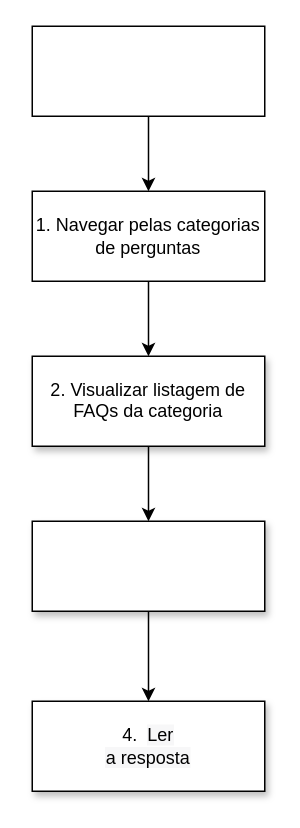
Some shapes in this 300 by 828 pixel diagram are drawn without their labels. The centre of each missing label's shape, as x and y in pixels:
"0. Acesse a página de FAQ para consultar dúvida" goes at [148,70].
"3. Clicar em uma pergunta" goes at [149,568].
